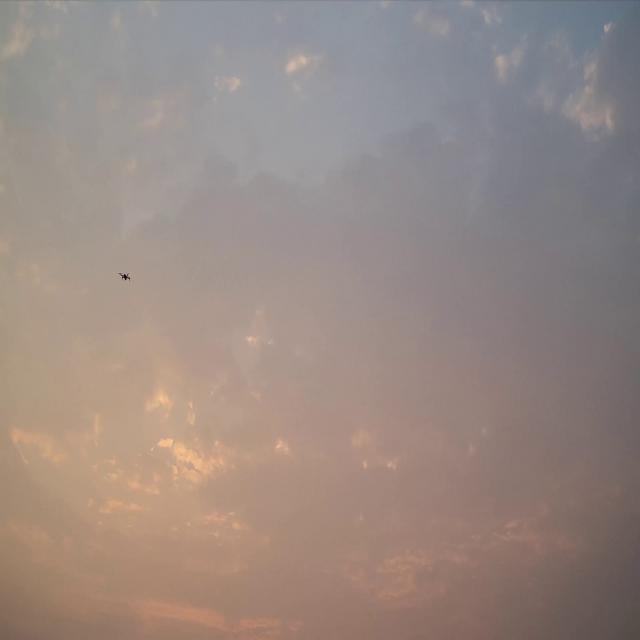UAV: (118, 272, 132, 282)
